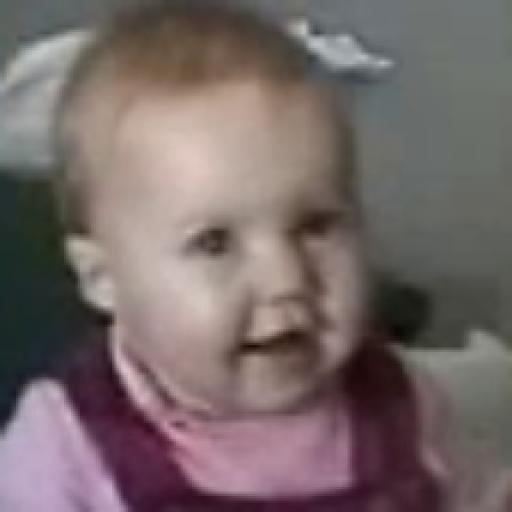Autism: (52, 24, 408, 482)
